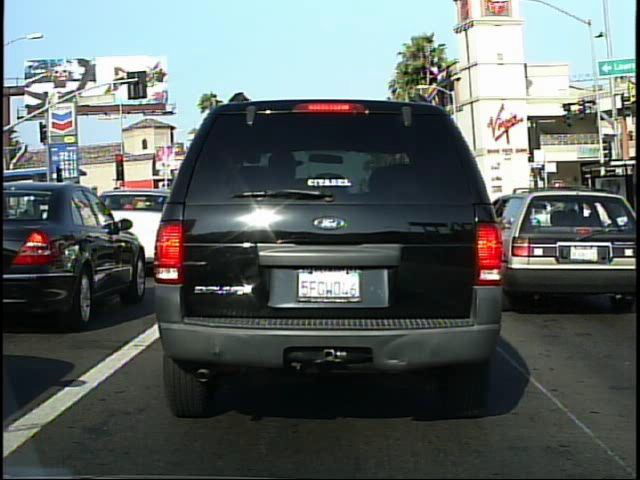person: (589, 184, 618, 241), (563, 182, 584, 238)
